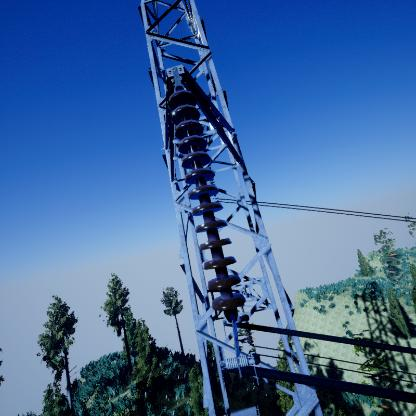insulator: (162, 88, 247, 322)
